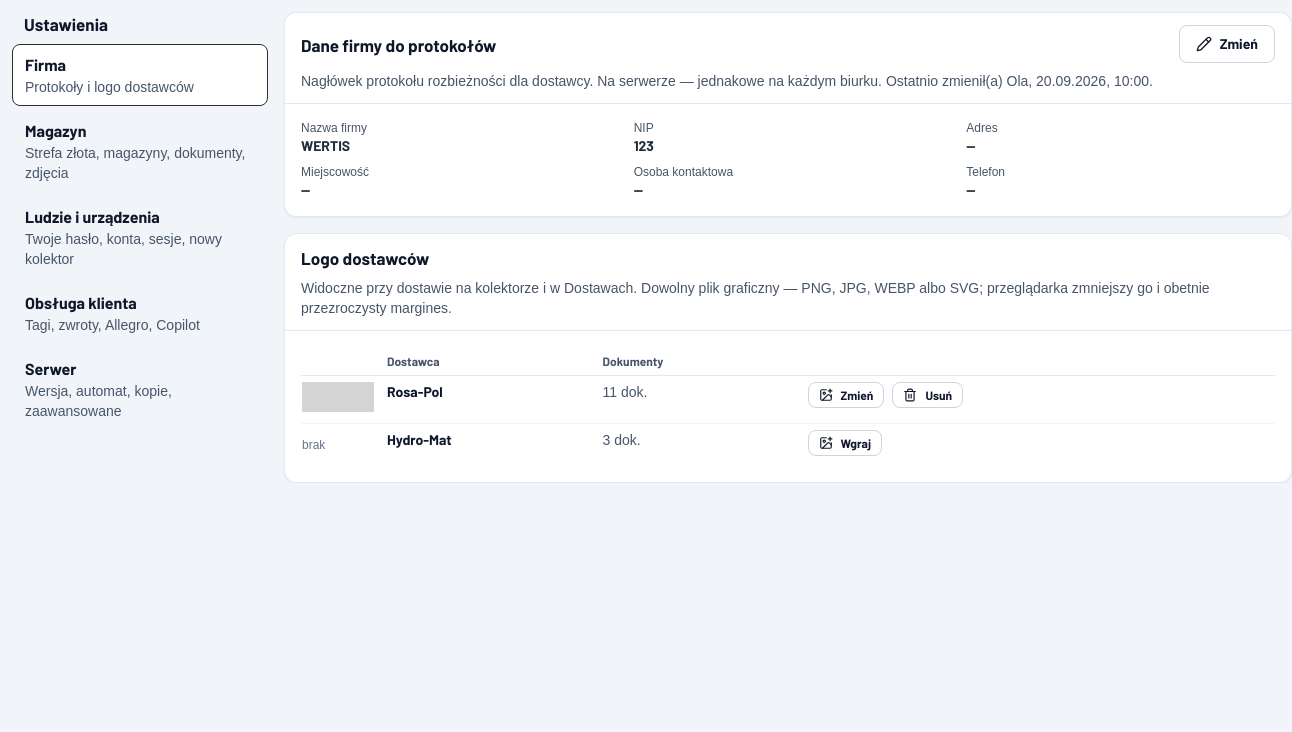
Test: Ustawienia w panelu › dane firmy: na wierzchu odczyt, formularz jedno kliknięcie dalej, Anuluj nic nie wysyła
Expected: the text "WERTIS" is shown, [301,137,350,154]
Click the button "Zmień" in the row of "Dane firmy do protokołów" at (1227, 44), box [1179,25,1275,63]
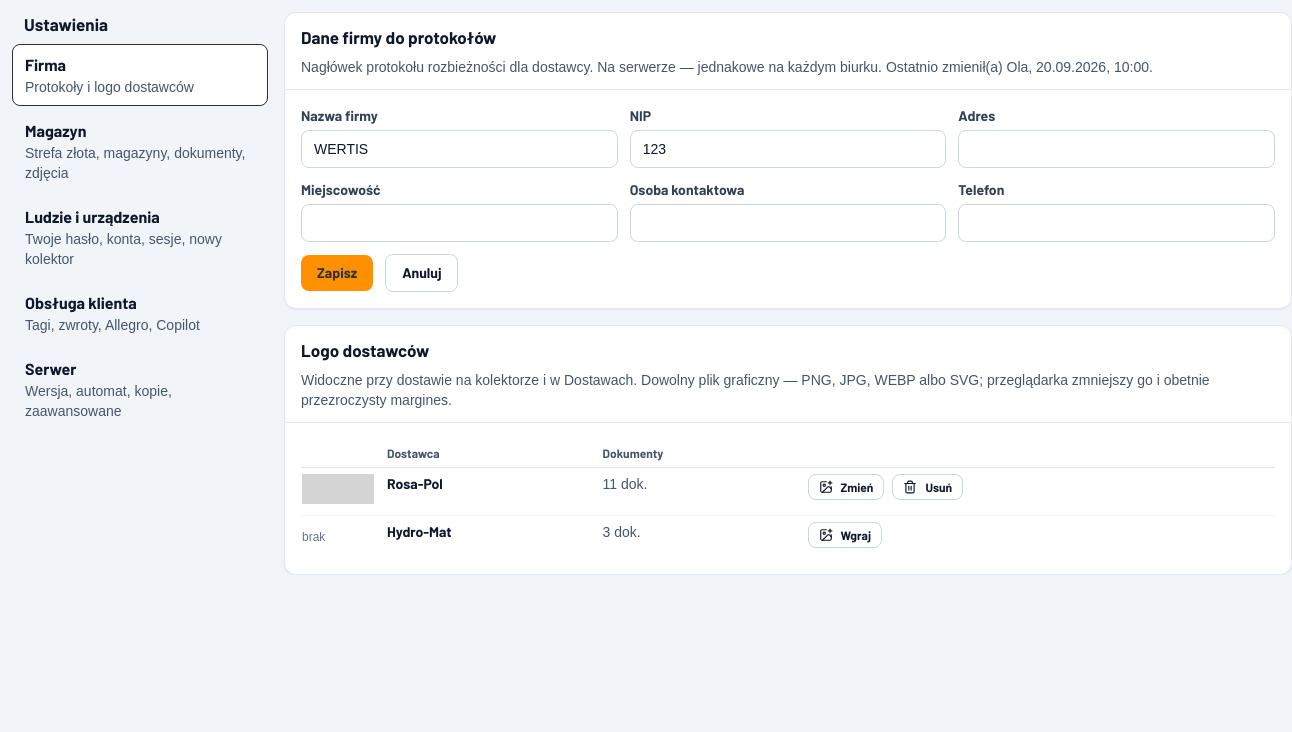
Result: the field labelled "Nazwa firmy" holds "WERTIS"
Type " XYZ" into the field labelled "Nazwa firmy" at (459, 149), box [301,130,618,168]
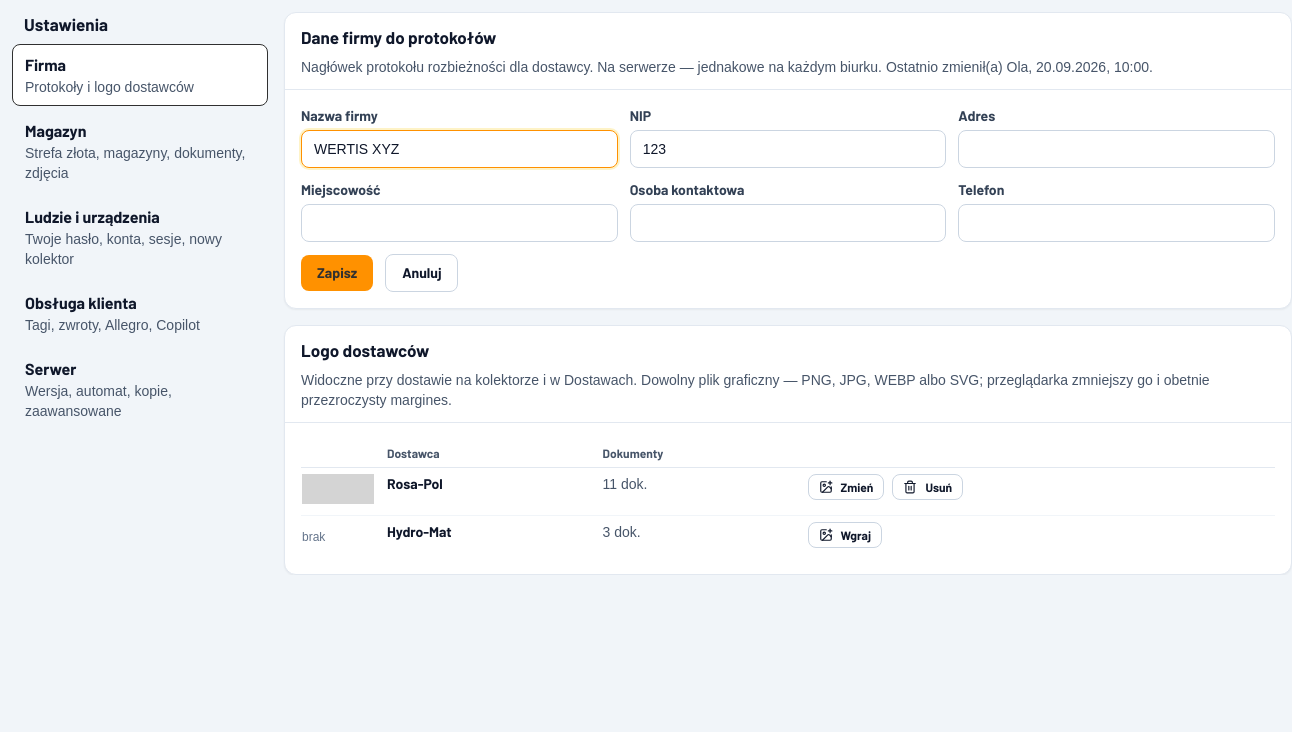
Click the button "Anuluj" at (422, 273), box [385,254,458,292]
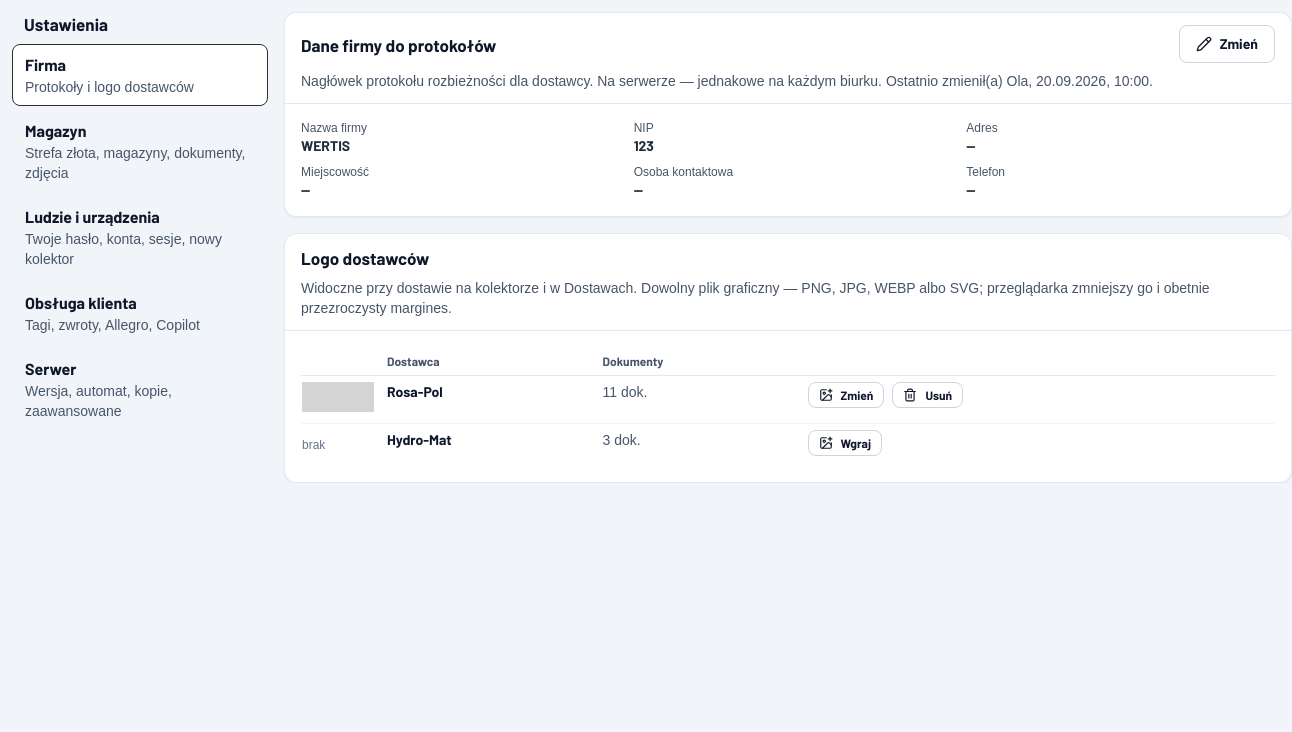
Expected: the text "WERTIS XYZ" is not shown
Result: the field is gone
Click the button "Zmień" in the row of "Dane firmy do protokołów" at (1227, 44), box [1179,25,1275,63]
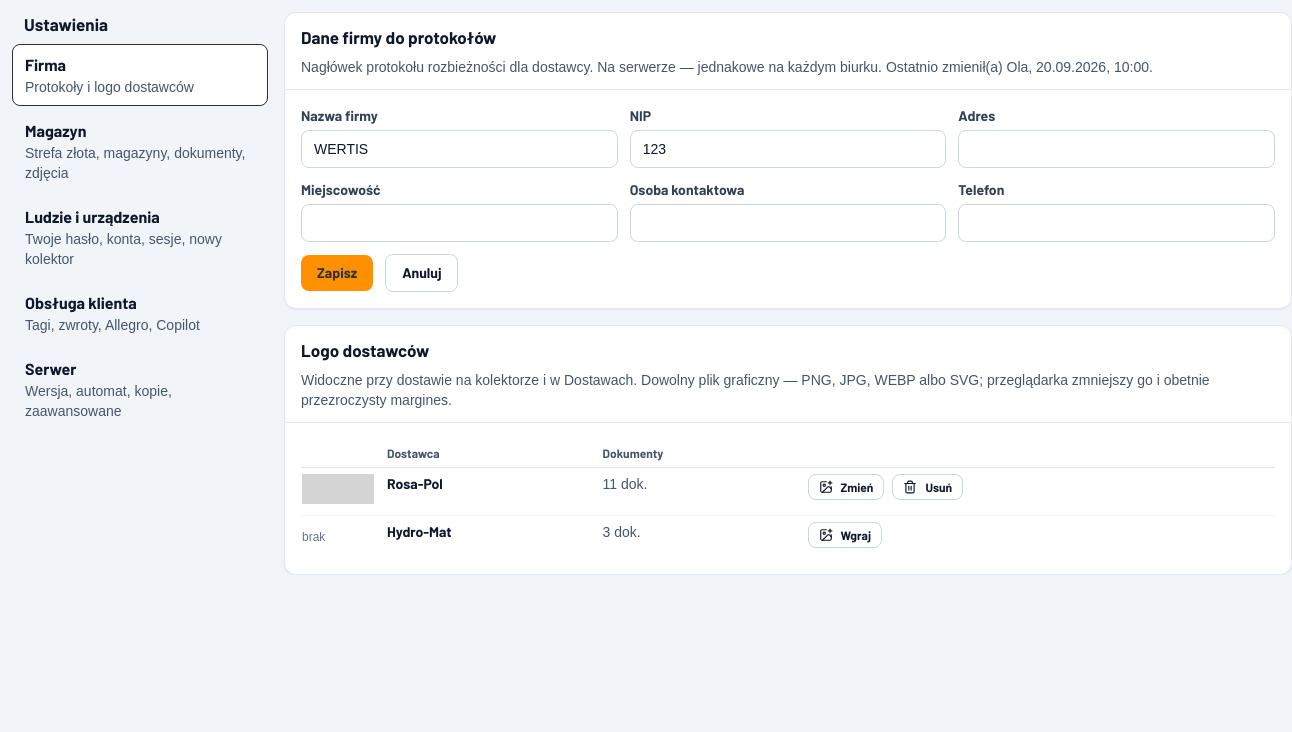
Result: the field labelled "Nazwa firmy" holds "WERTIS" at [301,130,618,168]
